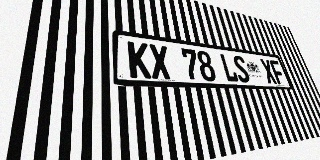7: (180, 48, 202, 81)
8: (196, 50, 217, 81)
F: (269, 60, 287, 84)
K: (127, 41, 152, 79)
L: (219, 53, 239, 82)
S: (232, 55, 251, 83)
X: (148, 44, 172, 79), (259, 58, 278, 84)
